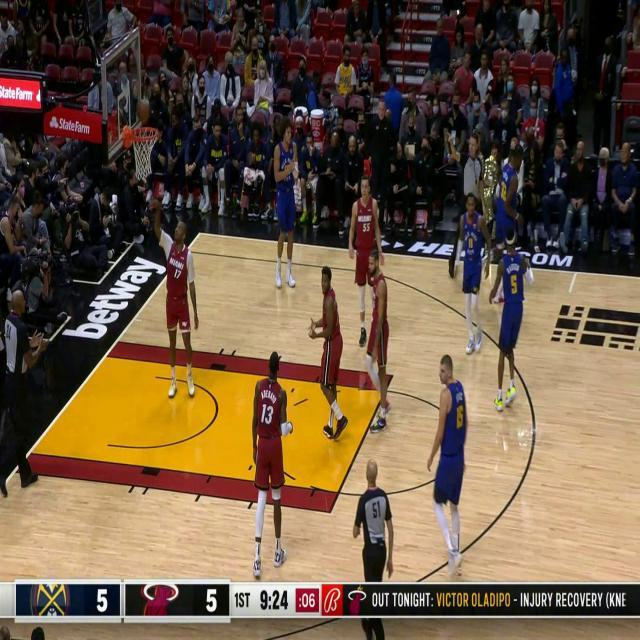rim: (138, 99, 149, 122)
